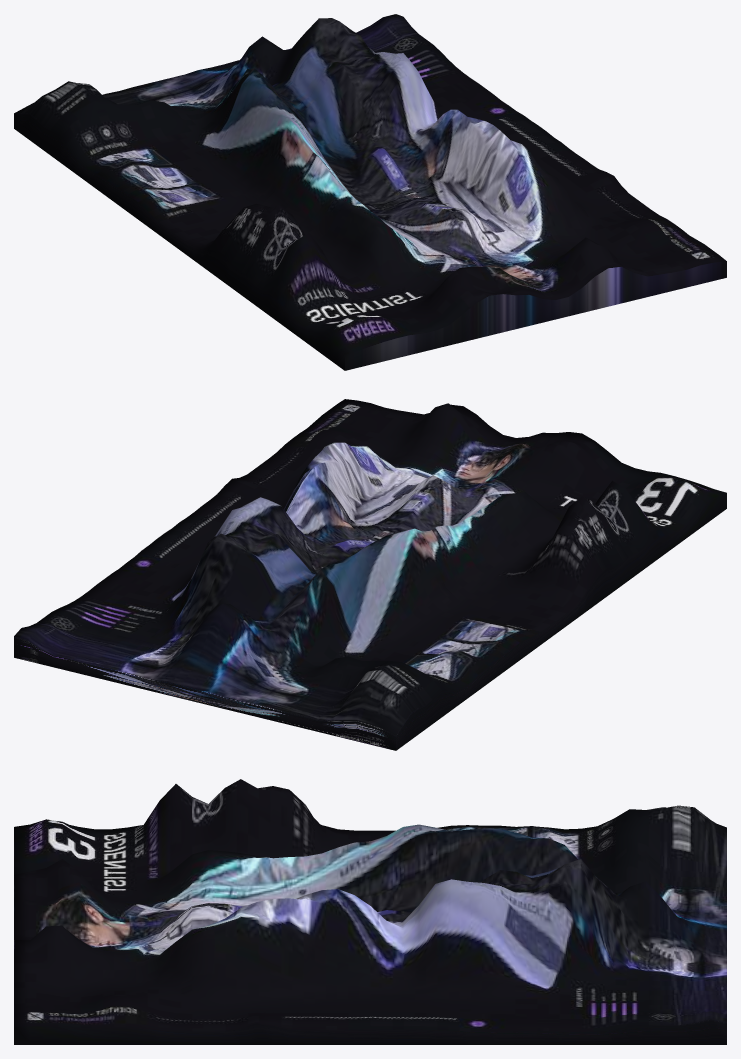
File: CAREER_13_Outfit_02_Intermediate.glb
3 renders of one model, top to bottom at view 1: azimuth 30°, elevation 25°; view 2: azimuth 150°, elevation 25°; view 3: azimuth 270°, elevation 25°, orthographic. The views are drawn at different scales.
Visible parts, largest first — view 1: CAREER_13_Outfit_02_Intermediate; view 2: CAREER_13_Outfit_02_Intermediate; view 3: CAREER_13_Outfit_02_Intermediate.
Boxes of the visible parts, x1,y1,x2,y2 form: CAREER_13_Outfit_02_Intermediate: (14,14,726,370); CAREER_13_Outfit_02_Intermediate: (14,399,726,750); CAREER_13_Outfit_02_Intermediate: (14,779,726,1044).
Size of the model in its own units: 2 by 0.51 by 3.
1 material, 1 textured.
